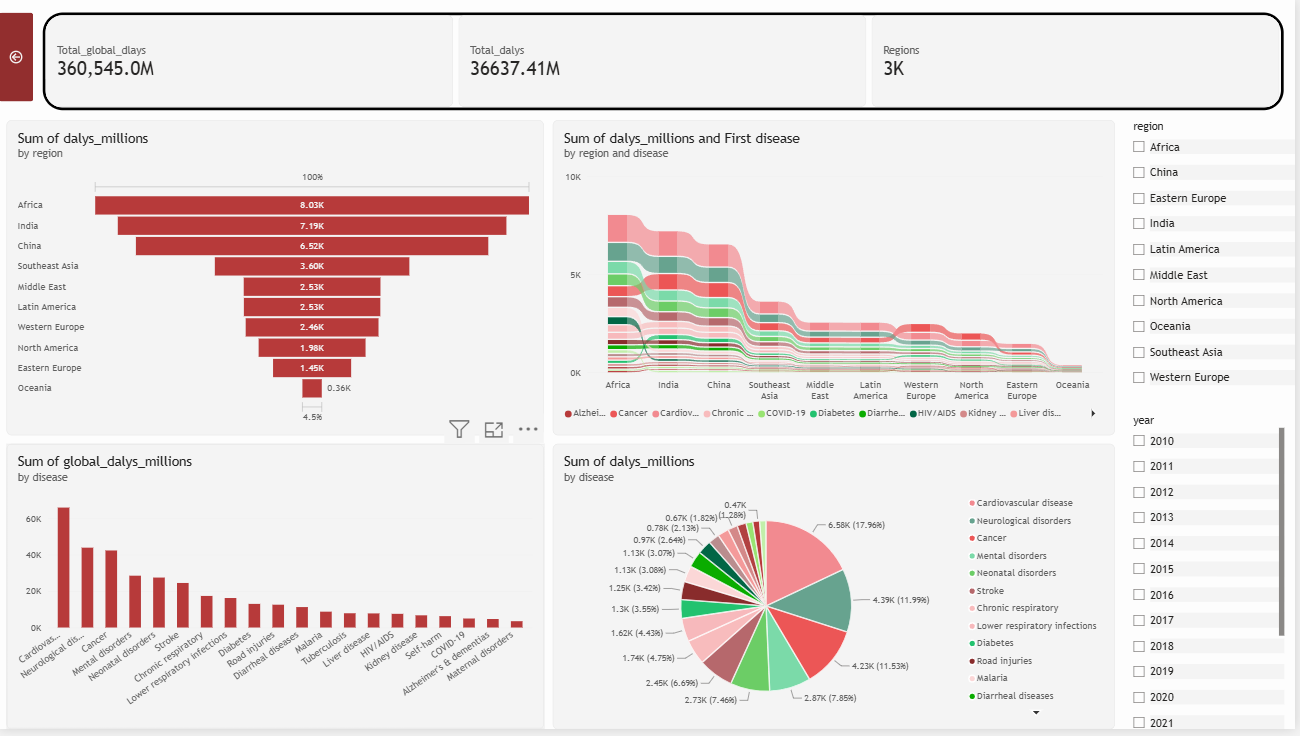

The dashboard page shown, as its layout file describes it:
{"tool":"powerbi","page":{"name":"Diseases_Analysis ","canvas":[1920,1080],"ordinal":3},"visuals":[{"type":"funnel","fields":{"Category":["Diseases.region"],"Y":["Sum(Diseases.dalys_millions)"]},"box":[10.9,177.3,796.3,466.9],"z":0},{"type":"clusteredColumnChart","fields":{"Y":["Sum(Diseases.global_dalys_millions)"],"Category":["Diseases.disease"]},"box":[10.9,656.9,796.3,423.5],"z":1000},{"type":"pieChart","fields":{"Category":["Diseases.disease"],"Y":["Sum(Diseases.dalys_millions)"]},"box":[819.8,656.9,832.4,423.5],"z":2000},{"type":"slicer","fields":{"Values":["Diseases.region"]},"box":[1672.1,177.3,247.9,421.7],"z":3000},{"type":"slicer","fields":{"Values":["Diseases.year"]},"box":[1672.1,613.5,231.6,466.9],"z":4000},{"type":"cardVisual","fields":{"Data":["1Table.Total_global_dlays","1Table.Total_dalys","1Table.Regions"]},"box":[65.1,18.1,1838.6,144.8],"z":5000},{"type":"actionButton","box":[0,18.1,50.7,132.1],"z":6000},{"type":"ribbonChart","fields":{"Category":["Diseases.region"],"Series":["Diseases.disease"],"Y":["Sum(Diseases.dalys_millions)"]},"box":[819.8,177.3,832.4,466.9],"z":7000}]}

Visuals, with their boxes in screenshot pixels (x1, y1, x2, y2), scaled from the page's 1920x1080 canvas onto the 1300x736 screenshot:
funnel - Diseases.region x Sum(Diseases.dalys_millions): 7:121:547:439
clusteredColumnChart - Sum(Diseases.global_dalys_millions) x Diseases.disease: 7:448:547:735
pieChart - Diseases.disease x Sum(Diseases.dalys_millions): 555:448:1119:735
slicer - Diseases.region: 1132:121:1299:408
slicer - Diseases.year: 1132:418:1289:735
cardVisual - 1Table.Total_global_dlays x 1Table.Total_dalys: 44:12:1289:111
actionButton: 0:12:34:102
ribbonChart - Diseases.region x Diseases.disease: 555:121:1119:439
